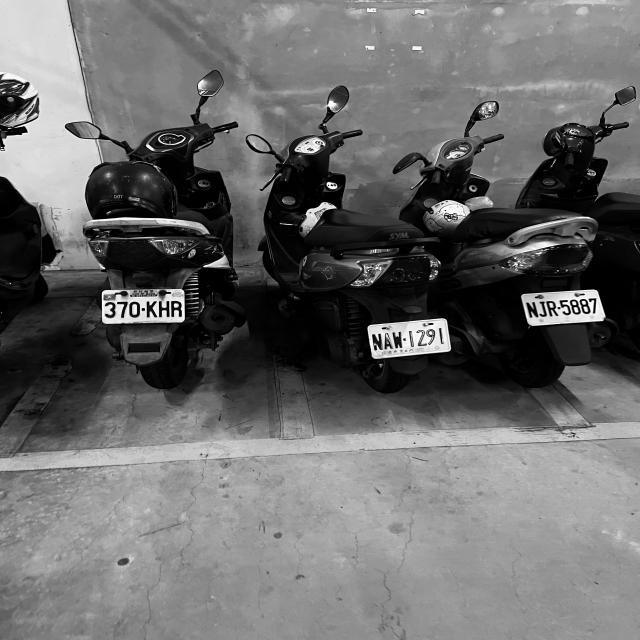-: (142, 306, 146, 312), (402, 338, 407, 342), (557, 306, 561, 310)
0: (128, 302, 140, 318)
1: (408, 331, 415, 347), (438, 328, 445, 344)
2: (416, 329, 428, 346)
3: (104, 301, 116, 319)
5: (559, 299, 572, 316)
7: (587, 297, 599, 315), (117, 300, 128, 318), (118, 300, 128, 318)
8: (569, 299, 583, 315), (578, 299, 592, 314)
9: (425, 327, 437, 345)
A: (382, 332, 394, 350)
H: (157, 300, 170, 317)
J: (537, 301, 548, 318)
K: (146, 300, 158, 318)
N: (371, 333, 384, 351), (526, 301, 539, 318)
R: (545, 300, 560, 317), (170, 300, 183, 318)
W: (392, 331, 404, 349)
plate: (369, 320, 450, 357), (102, 292, 184, 322), (522, 296, 606, 322)
